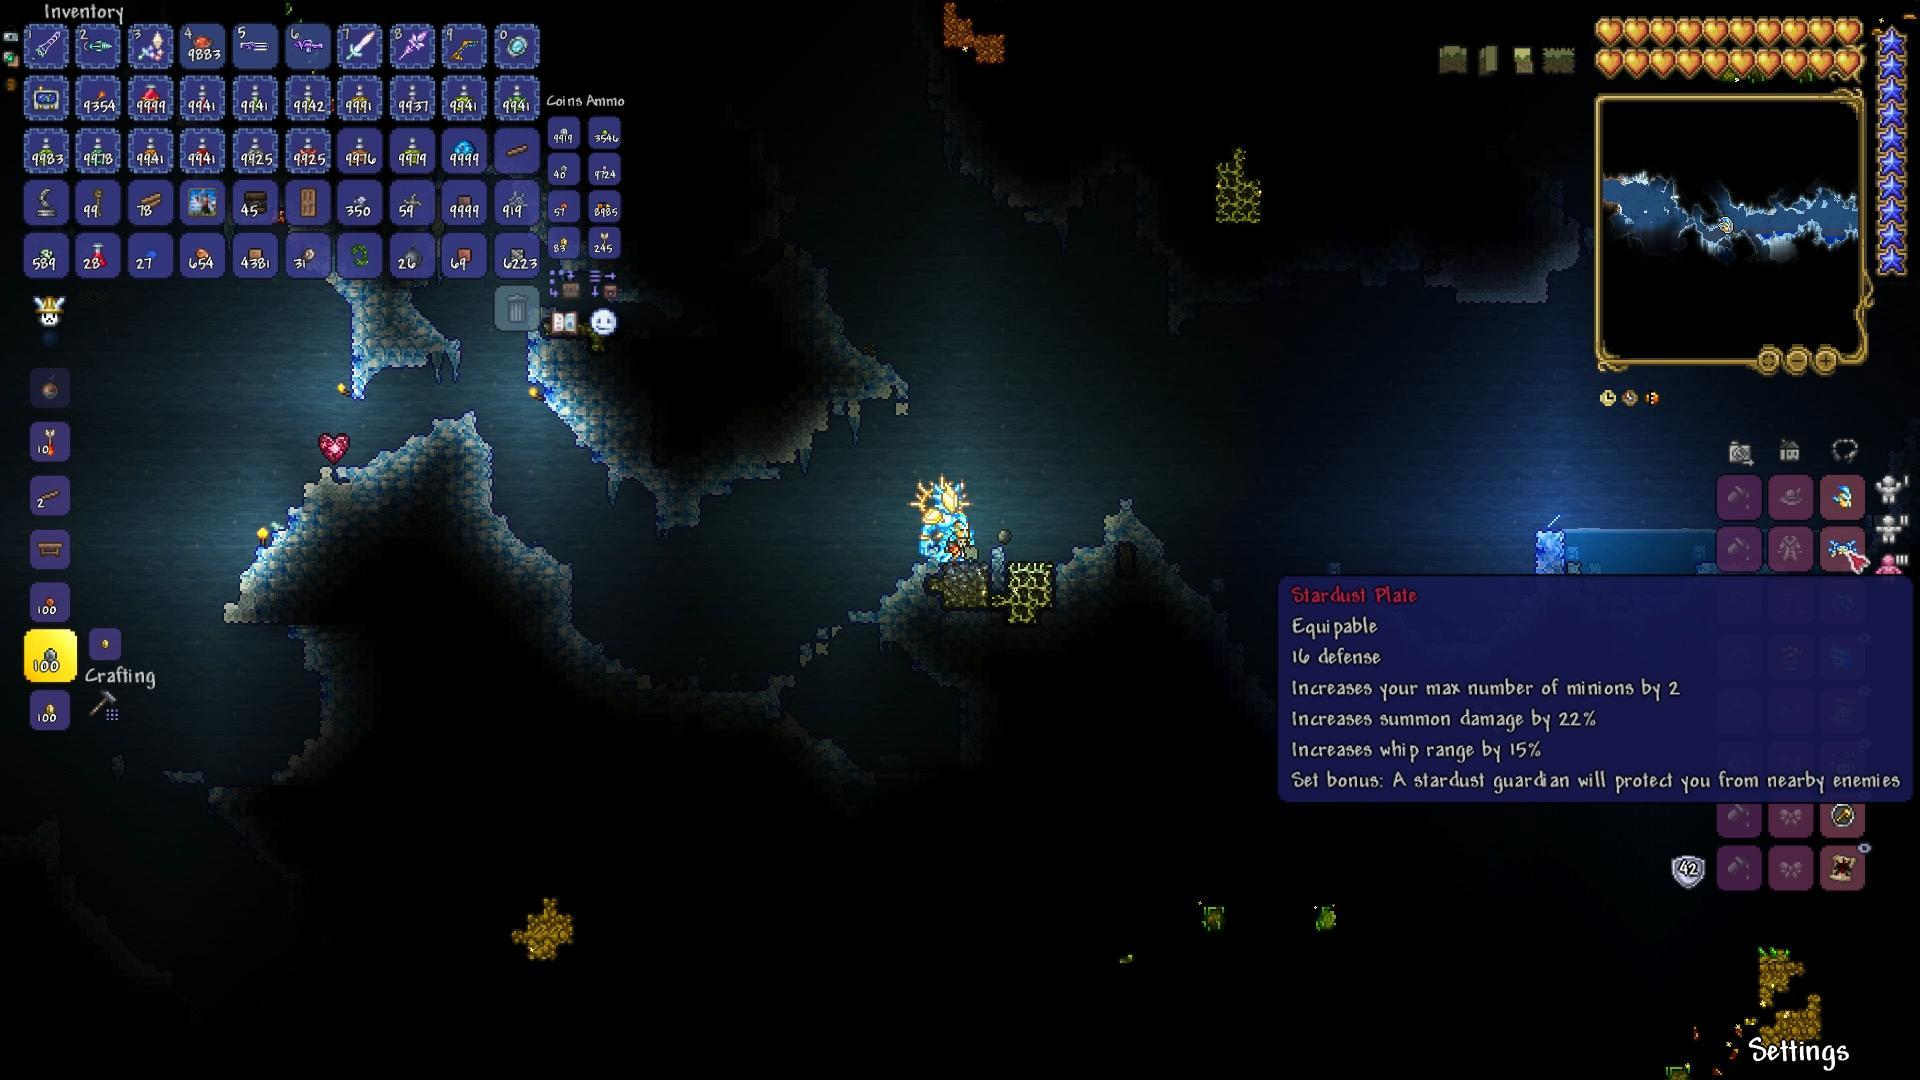lifeC: (315, 429, 351, 464)
